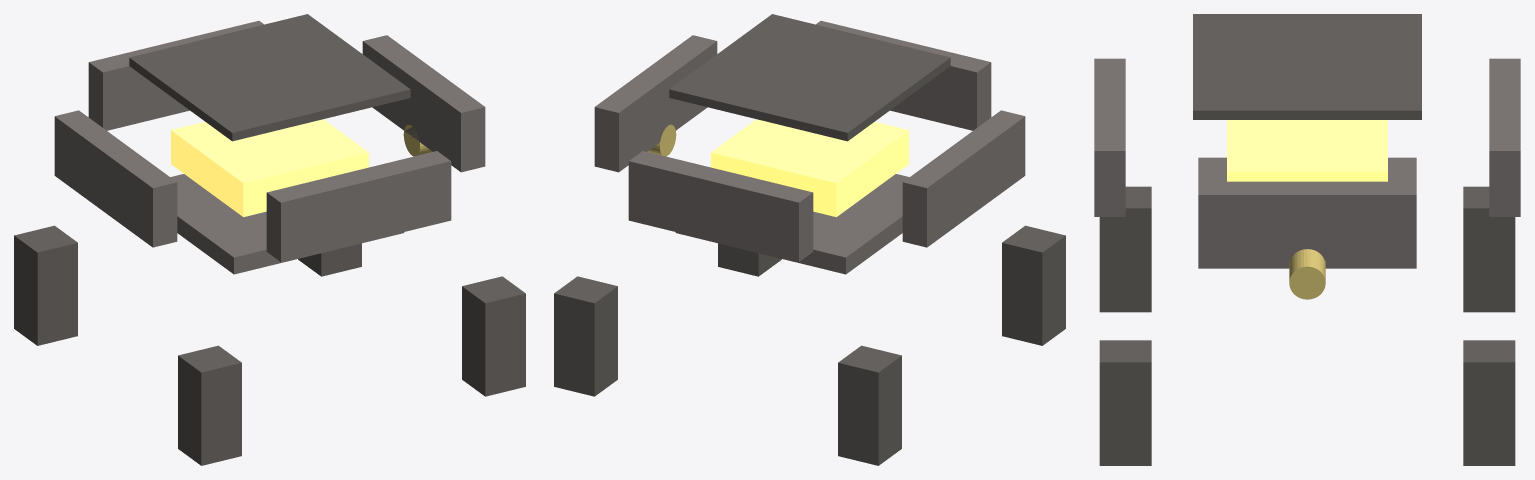
Rendered from casting_basin.glb.
3 views of the same model, side by side, from view 1: azimuth 30°, elevation 25°; view 2: azimuth 150°, elevation 25°; view 3: azimuth 270°, elevation 25° (orthographic). The views are drawn at different scales.
Visible parts, largest first — view 1: Cube.009, Cube.005, Cube.010, Cube.007, Cube.008, Cube, Cube.001, Cube.002, Cube.004, Cube.006, Cube.003; view 2: Cube.009, Cube.006, Cube.010, Cube.007, Cube.008, Cube.002, Cube.003, Cube, Cube.004, Cube.005, Cube.001; view 3: Cube.009, Cube.008, Cube.010, Cube.001, Cube.003, Cube, Cube.002, Cube.005, Cube.006, Cube.004, Cylinder.
Part boxes in pixels (bbox=[...]): Cube.009: bbox=[129, 14, 410, 141]; Cube.005: bbox=[266, 151, 451, 261]; Cube.010: bbox=[171, 119, 368, 216]; Cube.007: bbox=[54, 110, 177, 247]; Cube.008: bbox=[362, 35, 485, 172]; Cube: bbox=[178, 345, 241, 465]; Cube.001: bbox=[462, 276, 525, 396]; Cube.002: bbox=[14, 225, 77, 345]; Cube.004: bbox=[170, 174, 404, 274]; Cube.006: bbox=[88, 20, 263, 130]; Cube.003: bbox=[298, 243, 361, 276]; Cube.009: bbox=[669, 14, 950, 141]; Cube.006: bbox=[628, 151, 813, 261]; Cube.010: bbox=[711, 119, 908, 216]; Cube.007: bbox=[902, 110, 1025, 247]; Cube.008: bbox=[594, 35, 717, 172]; Cube.002: bbox=[838, 345, 901, 465]; Cube.003: bbox=[554, 276, 617, 396]; Cube: bbox=[1002, 225, 1065, 345]; Cube.004: bbox=[675, 174, 909, 274]; Cube.005: bbox=[816, 20, 991, 130]; Cube.001: bbox=[718, 243, 781, 276]; Cube.009: bbox=[1193, 14, 1421, 119]; Cube.008: bbox=[1198, 181, 1416, 260]; Cube.010: bbox=[1227, 120, 1387, 181]; Cube.001: bbox=[1099, 340, 1151, 465]; Cube.003: bbox=[1463, 340, 1515, 465]; Cube: bbox=[1099, 186, 1151, 312]; Cube.002: bbox=[1463, 186, 1515, 312]; Cube.005: bbox=[1094, 58, 1125, 216]; Cube.006: bbox=[1489, 58, 1520, 216]; Cube.004: bbox=[1198, 157, 1416, 268]; Cylinder: bbox=[1289, 249, 1325, 299].
Size of the model in its own units: 0.9 by 0.67 by 0.82.
